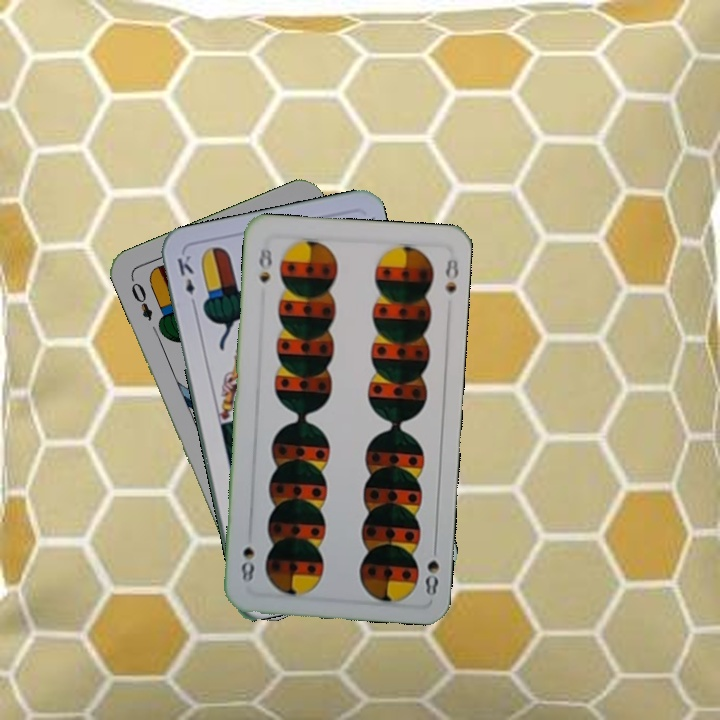EK: (173, 251, 199, 310)
EO: (126, 274, 155, 323)
S8: (421, 539, 441, 599), (255, 239, 275, 285)
